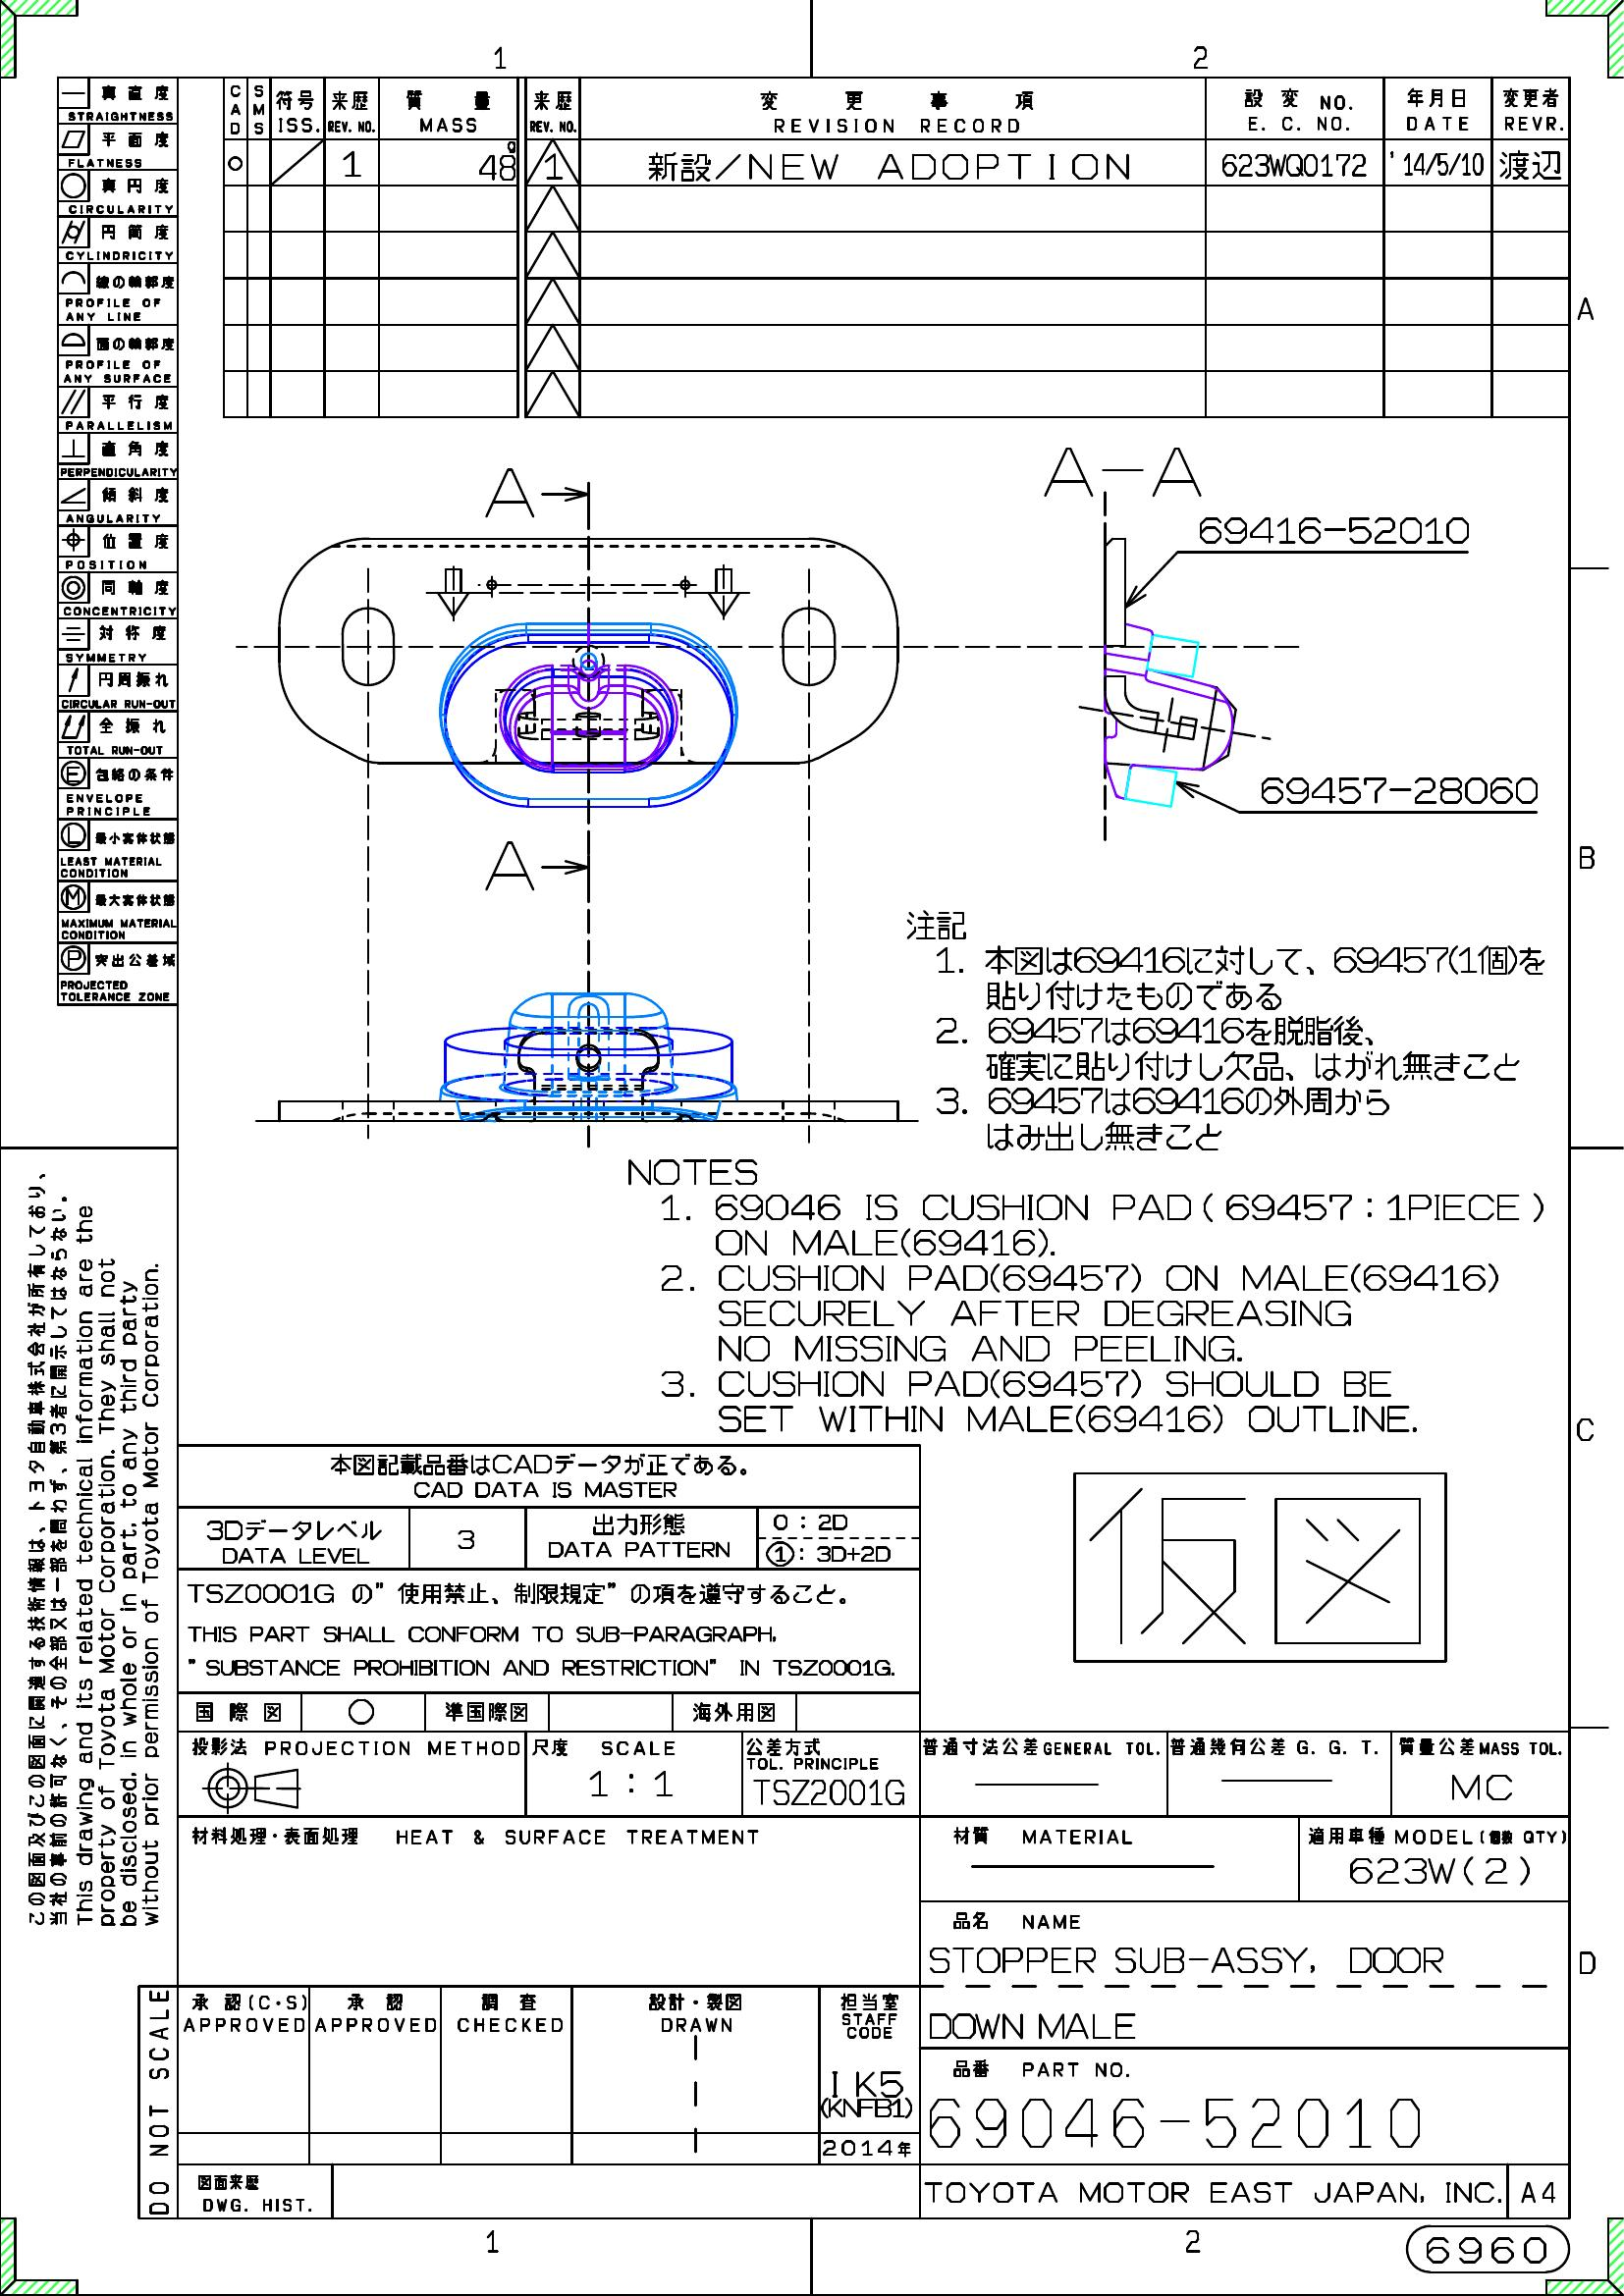anntotation_text: (619, 1152, 1555, 1437), (902, 901, 1554, 1156), (18, 1165, 170, 1934), (1049, 1460, 1466, 1679), (1258, 773, 1541, 808), (1399, 2222, 1578, 2277), (1040, 444, 1207, 499), (1197, 515, 1471, 546), (473, 462, 543, 531), (478, 833, 541, 905)
object: (260, 522, 926, 824), (244, 980, 923, 1154), (1060, 518, 1260, 850)
title_block: (125, 1432, 1582, 2224), (214, 70, 1575, 427), (49, 69, 185, 1012)
